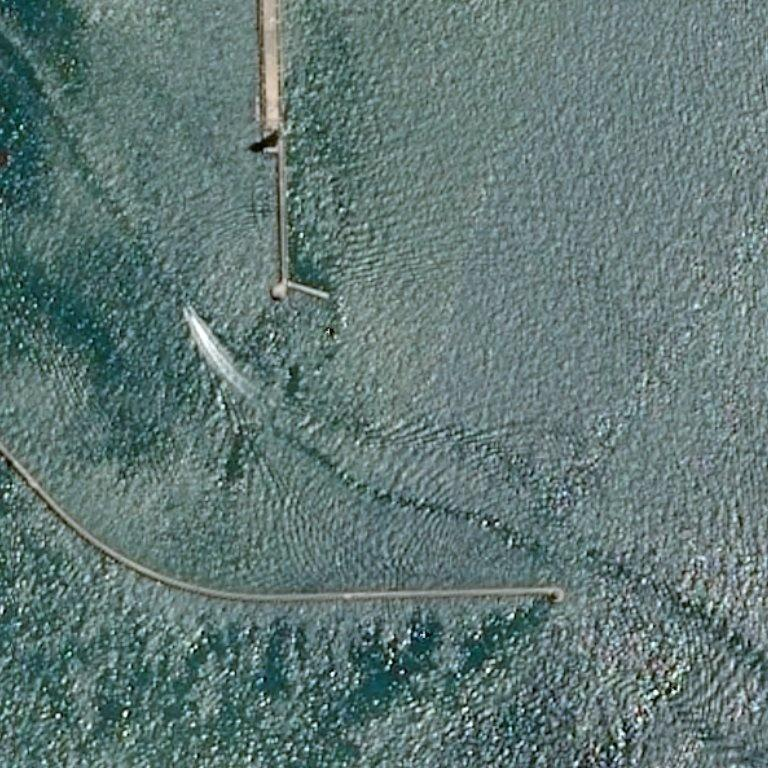ship: (179, 302, 202, 325), (183, 303, 186, 306), (198, 316, 200, 319), (34, 322, 35, 322)
